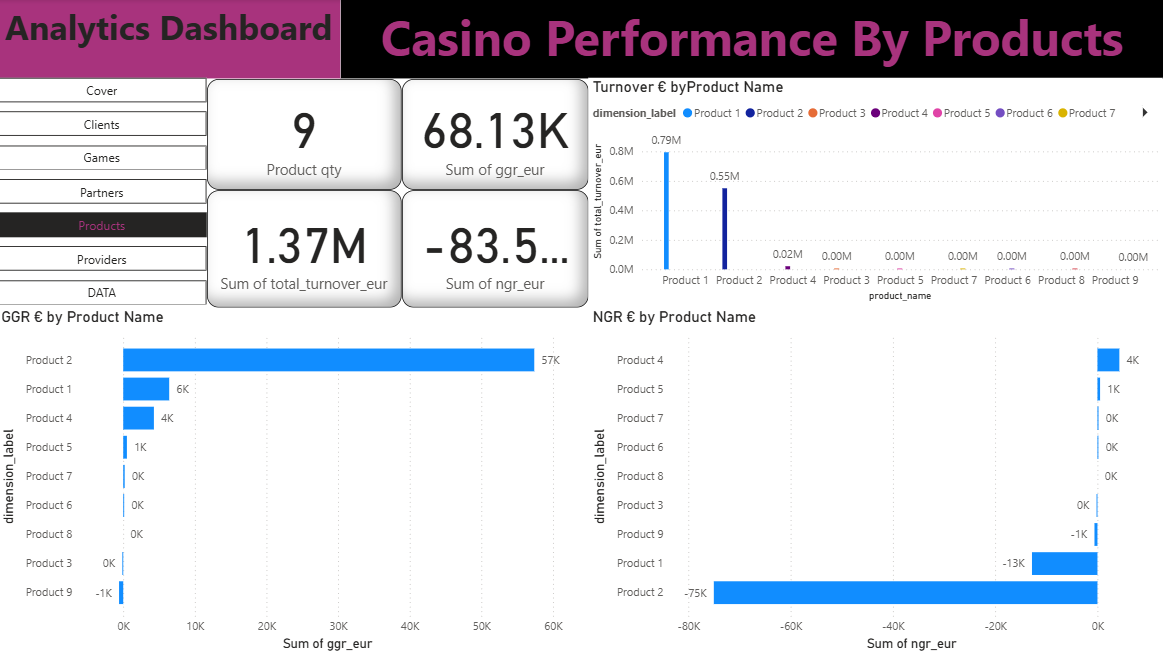

What the dashboard file says about the page in this screenshot:
{"tool":"powerbi","page":{"name":"Products","canvas":[1280,720],"ordinal":4},"visuals":[{"type":"card","fields":{"Values":["Sum(casino metrics_by_product.total_turnover_eur)"]},"box":[230.8,209.3,213.6,129],"z":0},{"type":"card","fields":{"Values":["Sum(casino metrics_by_product.ggr_eur)"]},"box":[444.4,87.5,205,121.9],"z":1000},{"type":"card","fields":{"Values":["Sum(casino metrics_by_product.ngr_eur)"]},"box":[444.4,209.3,205,129],"z":2000},{"type":"card","fields":{"Values":["Table.Product qty"]},"box":[230.8,87.5,213.6,121.9],"z":3000},{"type":"textbox","box":[377.1,0,903.2,87.5],"z":4000},{"type":"textbox","box":[0,0,377.1,87.5],"z":5000},{"type":"clusteredColumnChart","title":"Turnover €  byProduct Name","fields":{"Category":["casino products.product_name"],"Y":["Sum(casino metrics_by_product.total_turnover_eur)"],"Series":["casino metrics_by_product.dimension_label"]},"box":[649.1,87.1,630.7,250.3],"z":6000},{"type":"clusteredBarChart","title":"GGR €  by Product Name","fields":{"Category":["casino metrics_by_product.dimension_label"],"Y":["Sum(casino metrics_by_product.ggr_eur)"]},"box":[0,338.7,649.1,381.6],"z":7000},{"type":"clusteredBarChart","title":"NGR €  by Product Name","fields":{"Category":["casino metrics_by_product.dimension_label"],"Y":["Sum(casino metrics_by_product.ngr_eur)"]},"box":[649.1,338.7,630.7,381.6],"z":8000},{"type":"pageNavigator","box":[0,87.1,230.7,250.3],"z":9000}]}

Visuals, with their boxes in screenshot pixels (x1, y1, x2, y2), scaled from the page's 1280x720 canvas onto the 1163x652 screenshot:
card - Sum(casino metrics_by_product.total_turnover_eur): [210,190,404,306]
card - Sum(casino metrics_by_product.ggr_eur): [404,79,590,190]
card - Sum(casino metrics_by_product.ngr_eur): [404,190,590,306]
card - Table.Product qty: [210,79,404,190]
textbox: [343,0,1162,79]
textbox: [0,0,343,79]
"Turnover €  byProduct Name" clusteredColumnChart: [590,79,1162,306]
"GGR €  by Product Name" clusteredBarChart: [0,307,590,651]
"NGR €  by Product Name" clusteredBarChart: [590,307,1162,651]
pageNavigator: [0,79,210,306]
